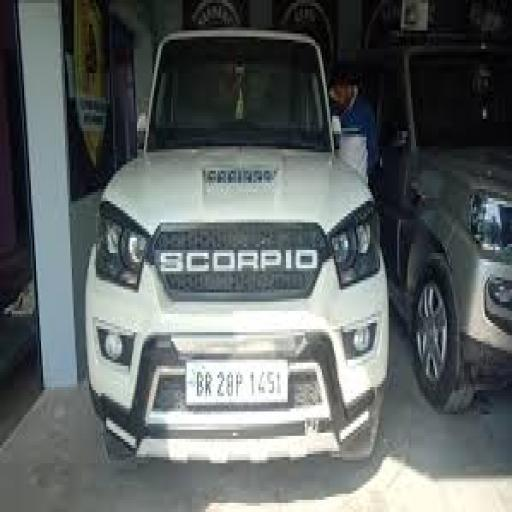car: (70, 19, 424, 486)
